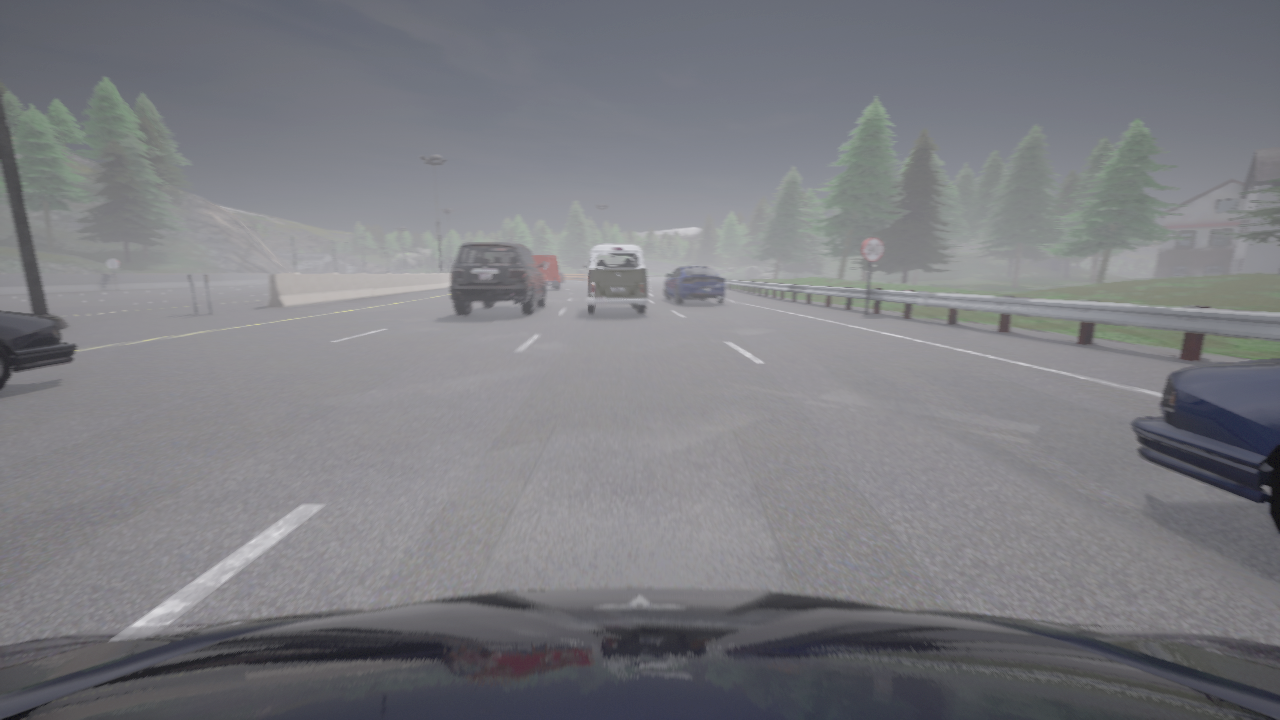cyclist: (0, 588, 1279, 719), (1131, 359, 1279, 534), (451, 242, 546, 315), (584, 243, 647, 314), (665, 265, 726, 303), (533, 255, 560, 289), (558, 271, 564, 282)
